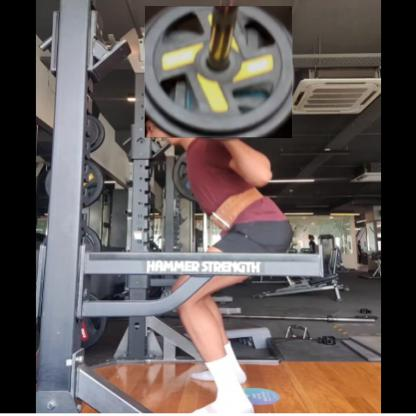barbell: (146, 7, 294, 140)
